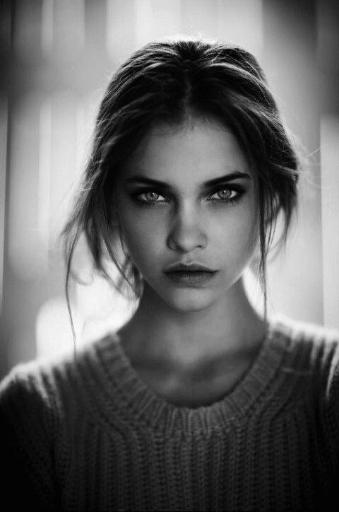left_eye: (205, 183, 247, 209)
left_lip_corner: (209, 265, 225, 286)
right_eye: (132, 188, 171, 209)
right_lip_corner: (161, 267, 173, 286)
